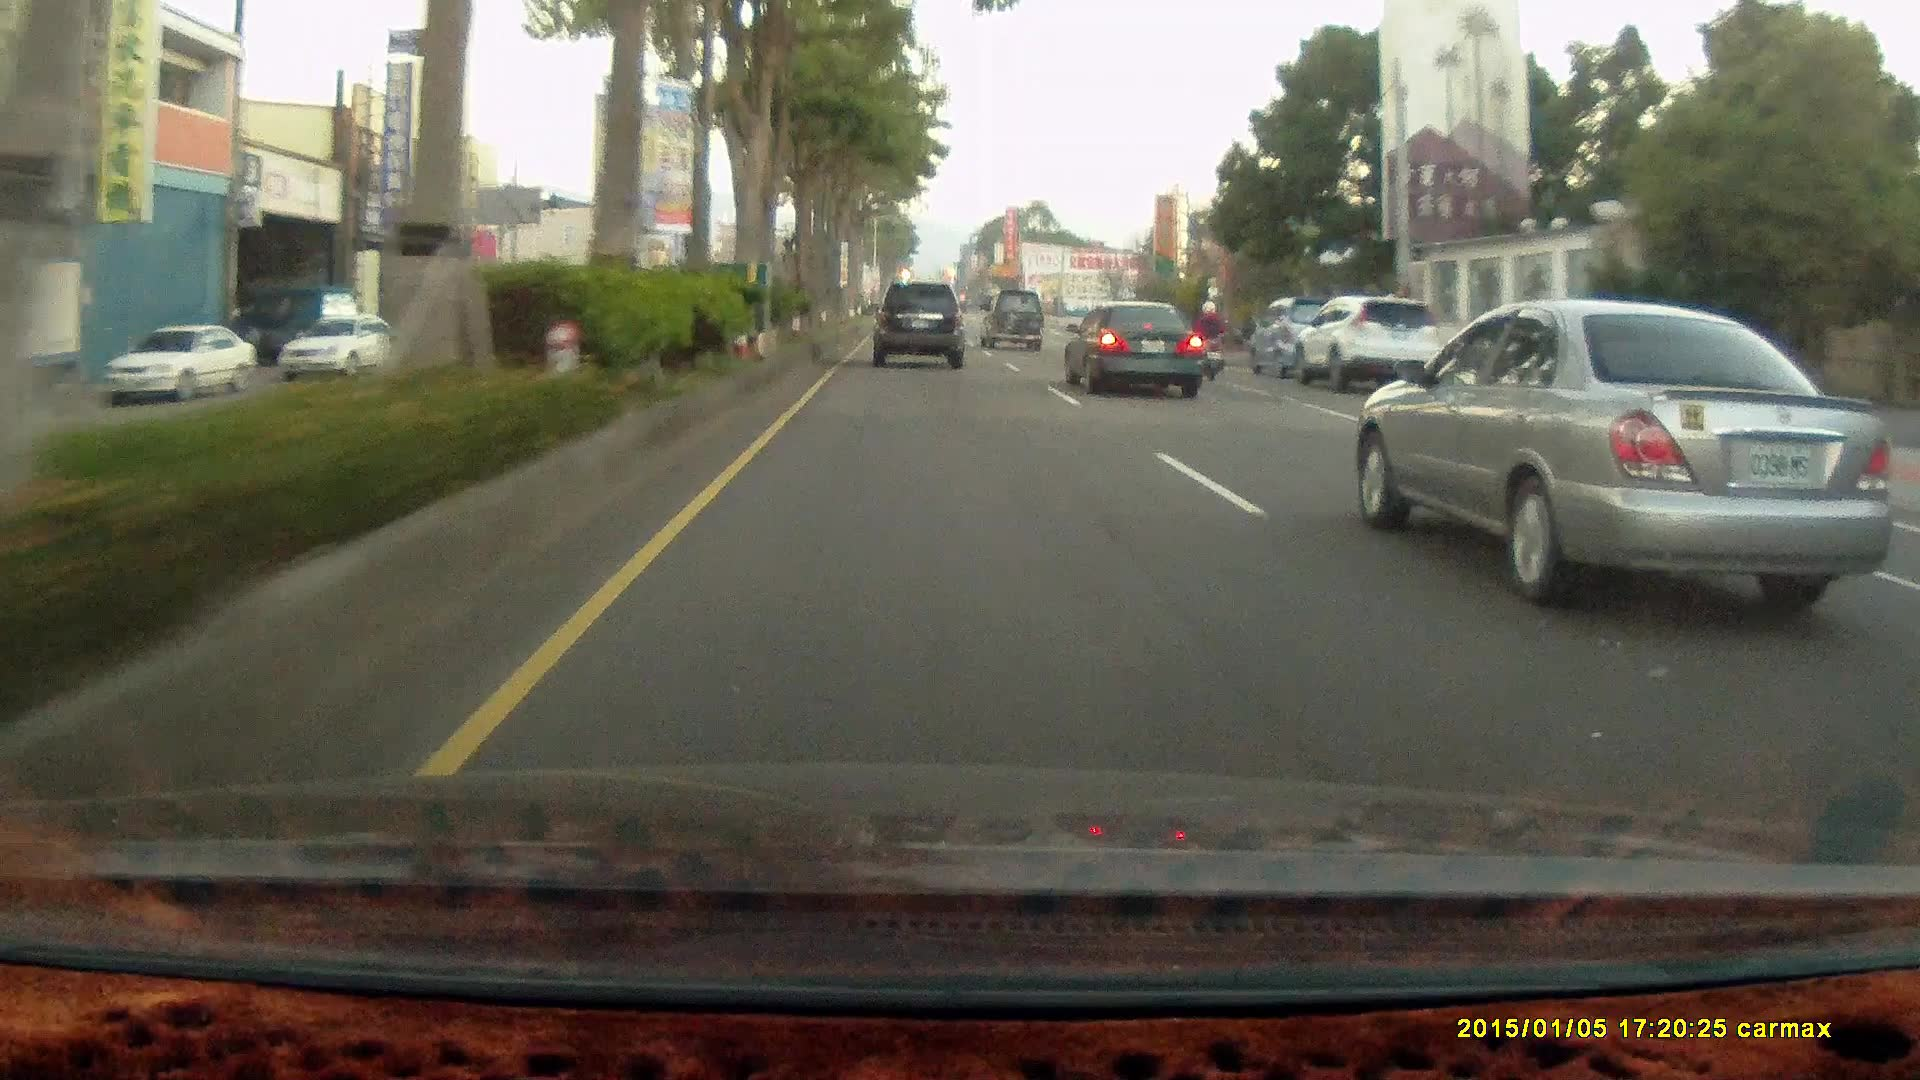rider: (1190, 297, 1227, 380)
vehicle: (1357, 299, 1894, 595), (1, 260, 101, 413), (1290, 295, 1441, 389), (1061, 299, 1204, 397), (1294, 300, 1444, 393), (1065, 300, 1210, 395), (0, 258, 83, 411), (103, 323, 253, 403), (109, 324, 255, 405), (870, 277, 970, 372), (1247, 294, 1355, 377), (868, 281, 964, 370), (281, 318, 405, 382), (981, 289, 1047, 355), (981, 288, 1041, 349)
